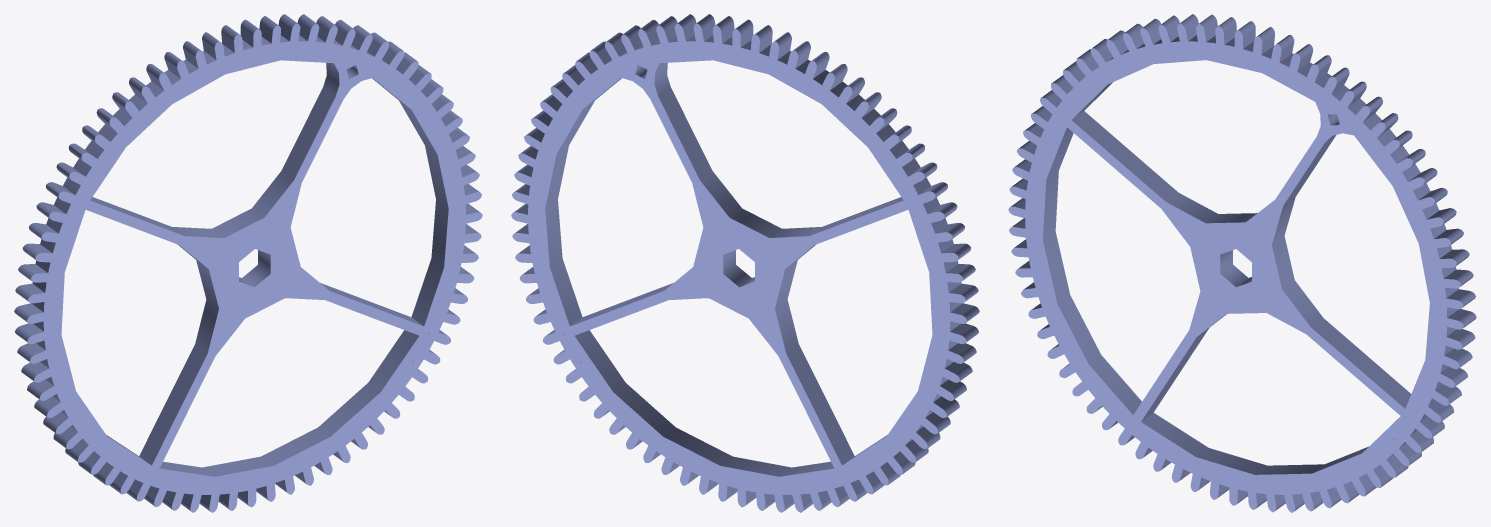
Rendered from Copie de Copie de Copie de Roue Ass 10^Copie de Roue_Barillet_Mvt_Horloge Comtoise Verge - Sonnerie.obj.
3 views of the same model, side by side, from view 1: azimuth 30°, elevation 25°; view 2: azimuth 150°, elevation 25°; view 3: azimuth 330°, elevation 25° (orthographic).
Parts seen in each view (by area): view 1: Face_241, Face_226, Face_236, Face_229, Face_220, Face_219, Face_228, Face_231; view 2: Face_1, Face_226, Face_236, Face_229, Face_220, Face_219, Face_228, Face_231; view 3: Face_241, Face_230, Face_226, Face_221, Face_232, Face_233, Face_220, Face_223, Face_231.
Part boxes in pixels (bbox=[...]): Face_241: bbox=[27, 23, 482, 512]; Face_226: bbox=[159, 330, 418, 476]; Face_236: bbox=[372, 78, 448, 325]; Face_229: bbox=[139, 344, 207, 465]; Face_220: bbox=[172, 171, 293, 237]; Face_219: bbox=[281, 87, 335, 179]; Face_228: bbox=[178, 244, 218, 352]; Face_231: bbox=[239, 250, 270, 287]; Face_1: bbox=[511, 23, 966, 512]; Face_226: bbox=[575, 330, 834, 476]; Face_236: bbox=[545, 78, 621, 325]; Face_229: bbox=[786, 344, 854, 465]; Face_220: bbox=[700, 171, 821, 237]; Face_219: bbox=[658, 87, 712, 179]; Face_228: bbox=[775, 244, 815, 352]; Face_231: bbox=[723, 250, 754, 287]; Face_241: bbox=[1008, 23, 1463, 512]; Face_230: bbox=[1043, 127, 1141, 414]; Face_226: bbox=[1141, 412, 1368, 474]; Face_221: bbox=[1072, 111, 1178, 201]; Face_232: bbox=[1311, 318, 1411, 408]; Face_233: bbox=[1272, 197, 1323, 326]; Face_220: bbox=[1166, 192, 1257, 223]; Face_223: bbox=[1141, 328, 1208, 421]; Face_231: bbox=[1220, 250, 1251, 286].
Bounding box in the file's own units: 0.0809 × 0.0809 × 0.0039.
